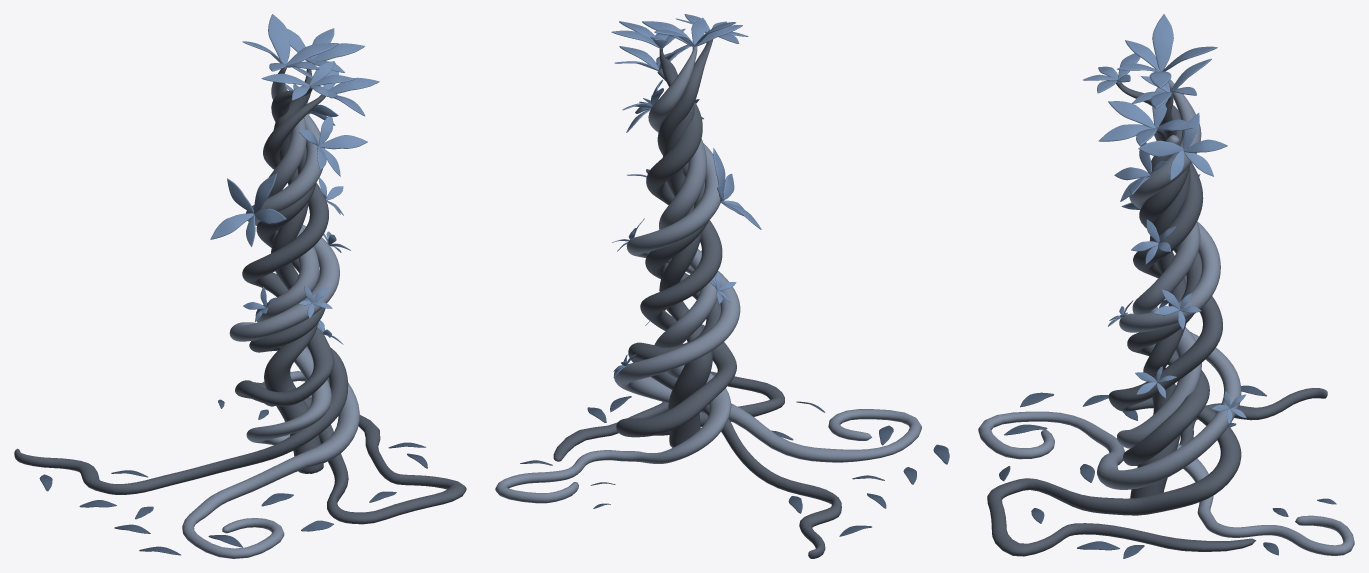
Rendered from plerb-3.fbx.
The picture shows the model from 3 angles, left to right: view 1: azimuth 30°, elevation 25°; view 2: azimuth 150°, elevation 25°; view 3: azimuth 270°, elevation 25°; orthographic projection. The views are drawn at different scales.
Parts seen in each view (by area): view 1: Cube.276; view 2: Cube.276; view 3: Cube.276.
Part boxes in pixels (x1,y1,x2,y2): Cube.276: (14,14,466,558); Cube.276: (495,14,949,558); Cube.276: (978,14,1354,558).
Bounding box in the file's own units: 92.15 × 117 × 85.86.
